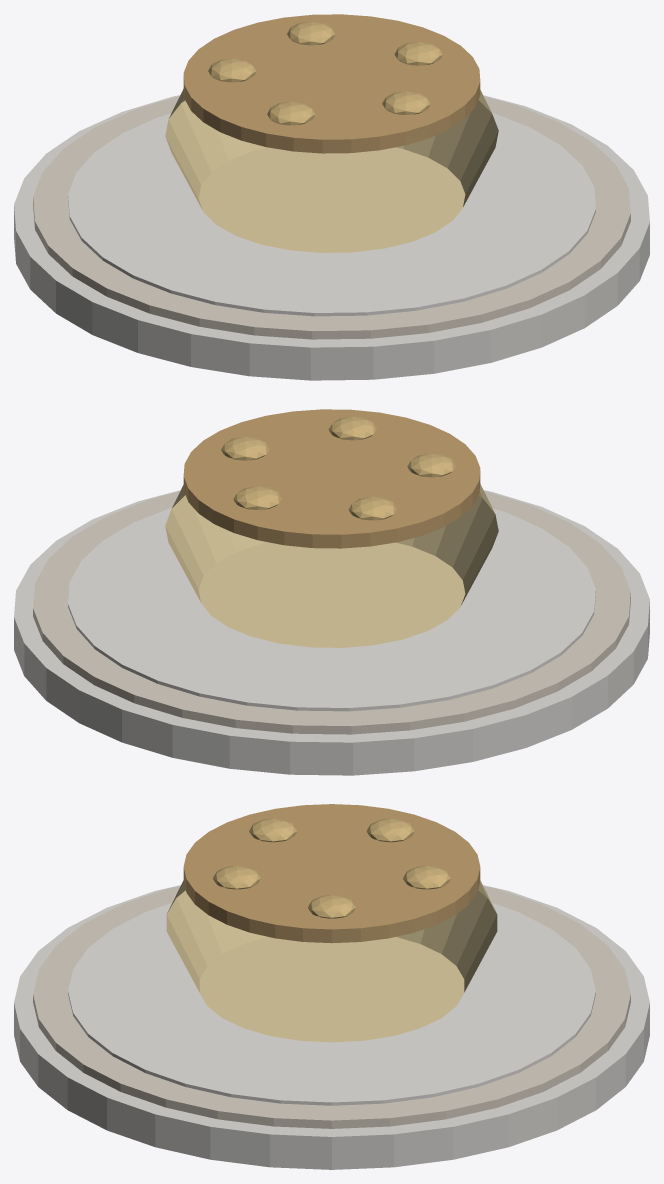
Rendered from banh_flan.glb.
3 views of the same model, one above another, from view 1: azimuth 30°, elevation 25°; view 2: azimuth 150°, elevation 25°; view 3: azimuth 270°, elevation 25° (orthographic).
Parts seen in each view (by area): view 1: obj_0002, obj_0000, obj_0003, obj_0004, obj_0001, obj_0007, obj_0008, obj_0009, obj_0005, obj_0006; view 2: obj_0002, obj_0000, obj_0003, obj_0004, obj_0001, obj_0008, obj_0006, obj_0007, obj_0005, obj_0009; view 3: obj_0002, obj_0000, obj_0003, obj_0004, obj_0001, obj_0007, obj_0008, obj_0005, obj_0006, obj_0009.
Part boxes in pixels (x1,y1,x2,y2): obj_0002: (68,112,595,316); obj_0000: (14,95,649,380); obj_0003: (165,89,498,252); obj_0004: (183,14,480,153); obj_0001: (33,96,630,339); obj_0007: (267,101,315,125); obj_0008: (208,58,256,82); obj_0009: (287,21,335,45); obj_0005: (394,42,442,65); obj_0006: (382,91,430,114); obj_0002: (68,507,595,711); obj_0000: (14,490,649,775); obj_0003: (165,484,498,647); obj_0004: (183,409,480,548); obj_0001: (33,491,630,734); obj_0008: (348,496,396,520); obj_0006: (328,416,376,440); obj_0007: (407,453,455,477); obj_0005: (221,437,269,460); obj_0009: (233,486,281,509); obj_0002: (68,903,595,1105); obj_0000: (14,885,649,1169); obj_0003: (166,880,497,1042); obj_0004: (183,804,480,943); obj_0001: (33,886,630,1128); obj_0007: (249,818,297,842); obj_0008: (366,818,414,842); obj_0005: (308,895,355,918); obj_0006: (213,866,260,889); obj_0009: (403,866,450,889).
Bounding box in the file's own units: 2.1 × 0.65 × 2.1.
